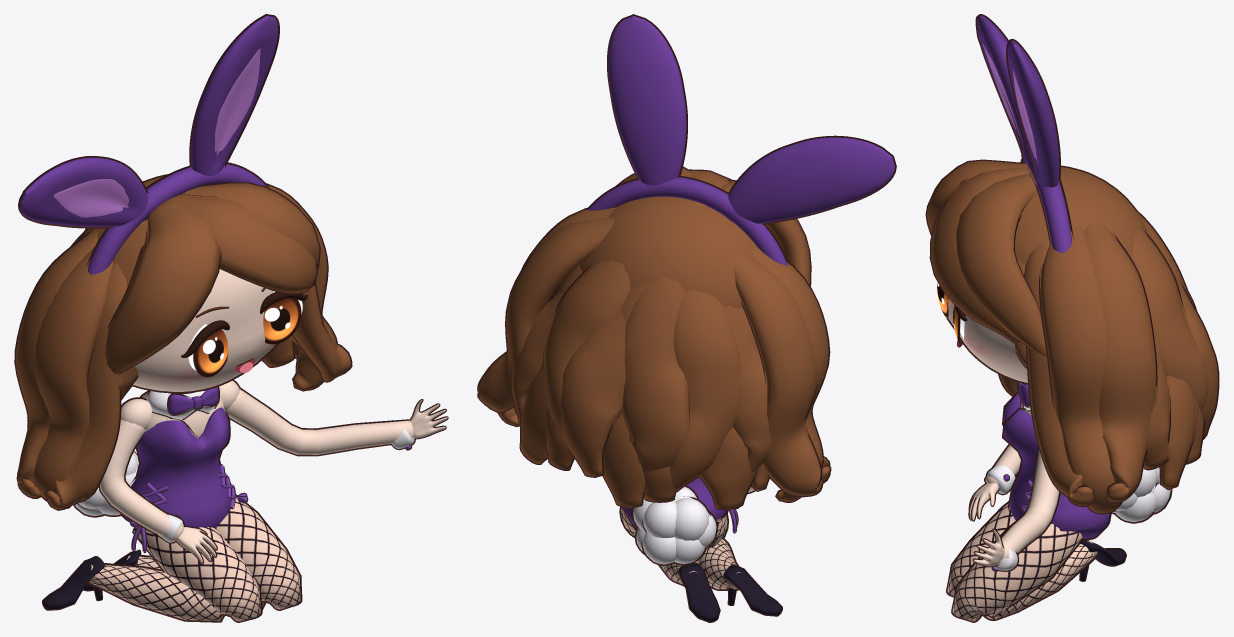
File: bunny.glb
3 renders of one model, left to right at view 1: azimuth 30°, elevation 25°; view 2: azimuth 150°, elevation 25°; view 3: azimuth 270°, elevation 25°, orthographic. The views are drawn at different scales.
Visible parts, largest first — view 1: Bang_MainL, SideWave_Mid_L, BunnySuit, Head, Bang_MainR, SideWave_Front_L, BunnyEar_L_Outer, SideWave_Outer_L, Leg_R, BunnyEar_R_Outer, Arm_L, Leg_L (+19 smaller); view 2: SideWave_Outer_L, HairCap, BunnyEar_L_Outer, BunnyEar_R_Outer, BackTop_L1, BackTop_L2, BackTop_R1, SideWave_Outer_R, BackTop_R2, BunnyTail, Headband, BackTop_L3 (+13 smaller); view 3: SideWave_Mid_R, SideWave_Outer_R, Bang_LayerR, Leg_L, BackTop_R2, HairCap, SideWave_Front_R, Bang_MainR, BunnyEar_L_Outer, BunnySuit, BackBase_R2, Arm_L (+18 smaller).
Boxes of the visible parts, x1,y1,x2,y2 form: Bang_MainL: [105, 198, 221, 374]; SideWave_Mid_L: [33, 246, 112, 508]; BunnySuit: [120, 407, 231, 528]; Head: [131, 269, 302, 393]; Bang_MainR: [170, 194, 317, 294]; SideWave_Front_L: [44, 263, 127, 510]; BunnyEar_L_Outer: [189, 14, 279, 175]; SideWave_Outer_L: [14, 229, 98, 498]; Leg_R: [132, 527, 262, 622]; BunnyEar_R_Outer: [18, 156, 148, 228]; Arm_L: [225, 386, 413, 456]; Leg_L: [215, 494, 302, 610]; SideWave_Outer_L: [734, 254, 823, 497]; HairCap: [579, 196, 756, 309]; BunnyEar_L_Outer: [607, 14, 687, 185]; BunnyEar_R_Outer: [726, 135, 896, 224]; BackTop_L1: [621, 277, 690, 476]; BackTop_L2: [670, 289, 740, 492]; BackTop_R1: [560, 289, 631, 477]; SideWave_Outer_R: [477, 217, 614, 412]; BackTop_R2: [542, 260, 629, 432]; BunnyTail: [631, 485, 718, 565]; Headband: [586, 175, 789, 265]; BackTop_L3: [725, 305, 772, 473]; SideWave_Mid_R: [1039, 225, 1122, 514]; SideWave_Outer_R: [1084, 221, 1157, 503]; Bang_LayerR: [955, 173, 1046, 355]; Leg_L: [951, 520, 1084, 622]; BackTop_R2: [1132, 227, 1209, 412]; HairCap: [1014, 165, 1148, 265]; SideWave_Front_R: [1024, 240, 1094, 507]; Bang_MainR: [929, 166, 1031, 343]; BunnyEar_L_Outer: [1006, 39, 1060, 191]; BunnySuit: [1002, 392, 1111, 540]; BackBase_R2: [1159, 375, 1197, 490]; Arm_L: [1001, 447, 1060, 558].
Bounding box in the file's own units: 0.959 × 1.25 × 0.5673.
Materials: 17 (4 with a texture image).
